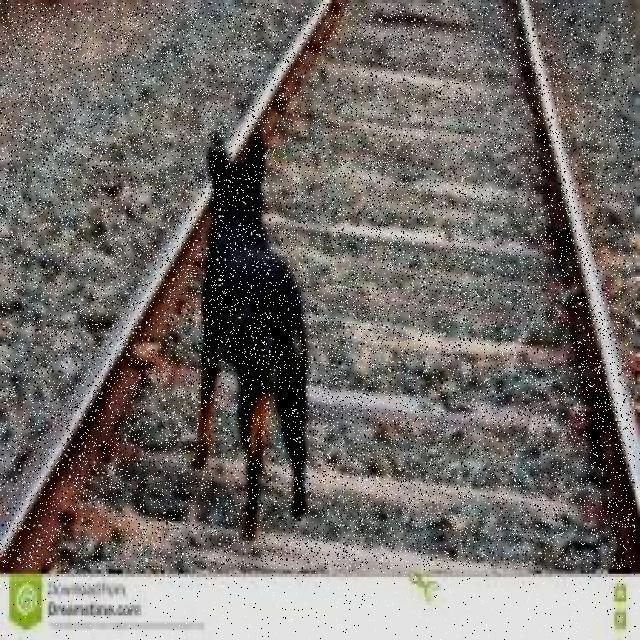danger: (185, 123, 306, 548)
rail: (0, 3, 635, 569)
